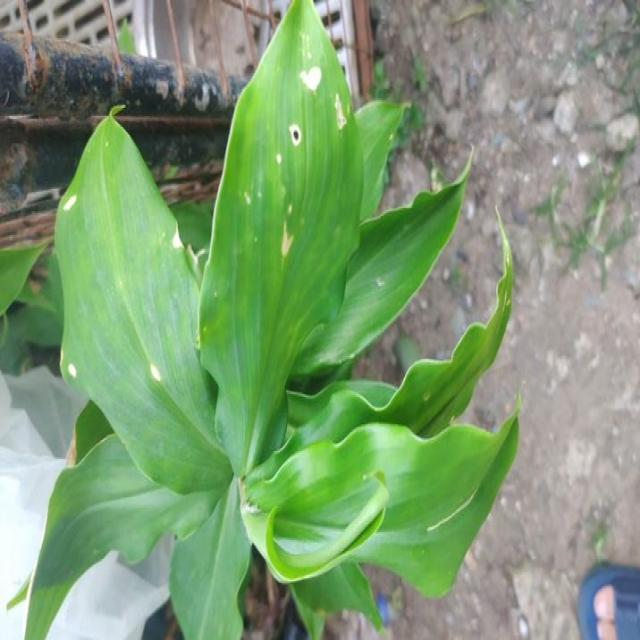blight: (140, 351, 177, 403), (275, 208, 302, 274), (292, 52, 320, 105), (290, 123, 308, 169)
